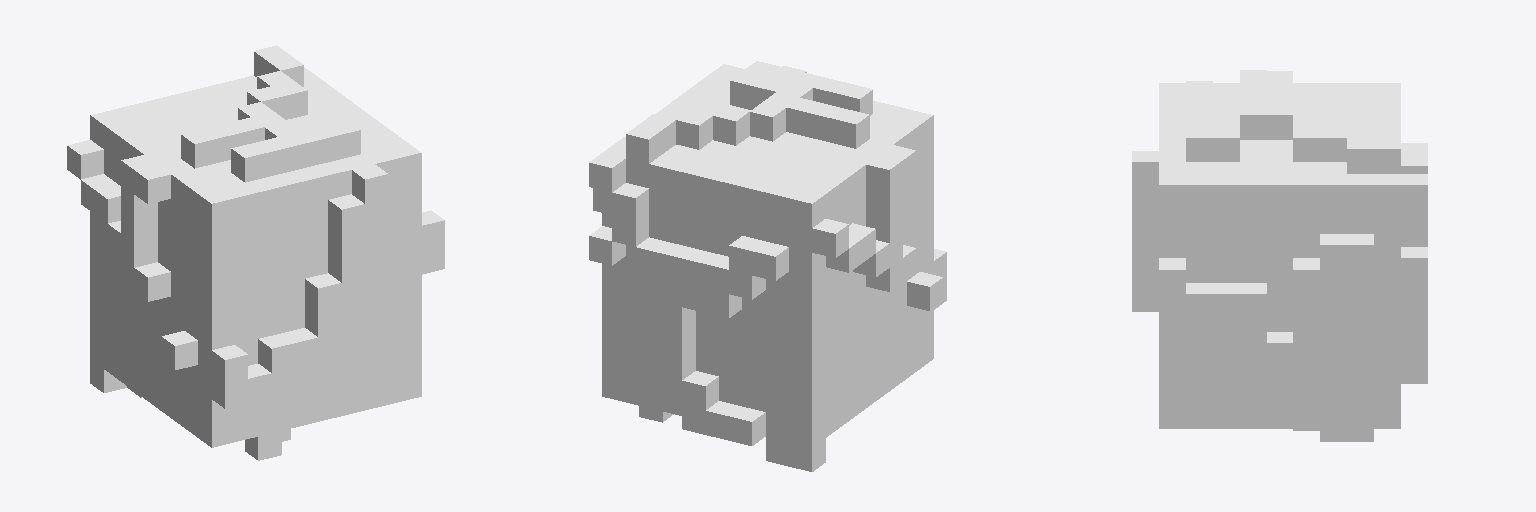
The model's file is ElectricBullet.obj.
The picture shows the model from 3 angles: view 1: azimuth 30°, elevation 25°; view 2: azimuth 150°, elevation 25°; view 3: azimuth 270°, elevation 25°; orthographic projection.
Parts seen in each view (by area): view 1: object 1; view 2: object 1; view 3: object 1.
Part boxes in pixels (left/top/right/bottom): object 1: left=67, top=45, right=444, bottom=460; object 1: left=589, top=61, right=946, bottom=471; object 1: left=1132, top=70, right=1427, bottom=441.
Size of the model in its own units: 1.1 by 1.2 by 1.1.